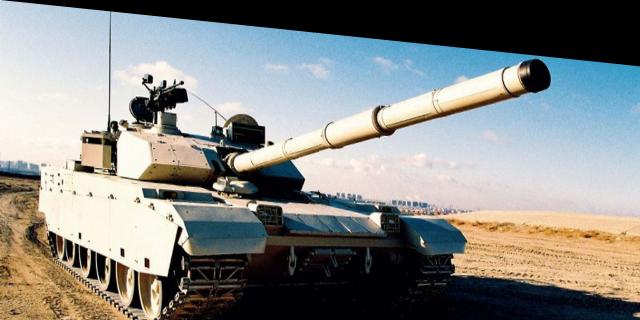tank: (38, 93, 460, 320)
